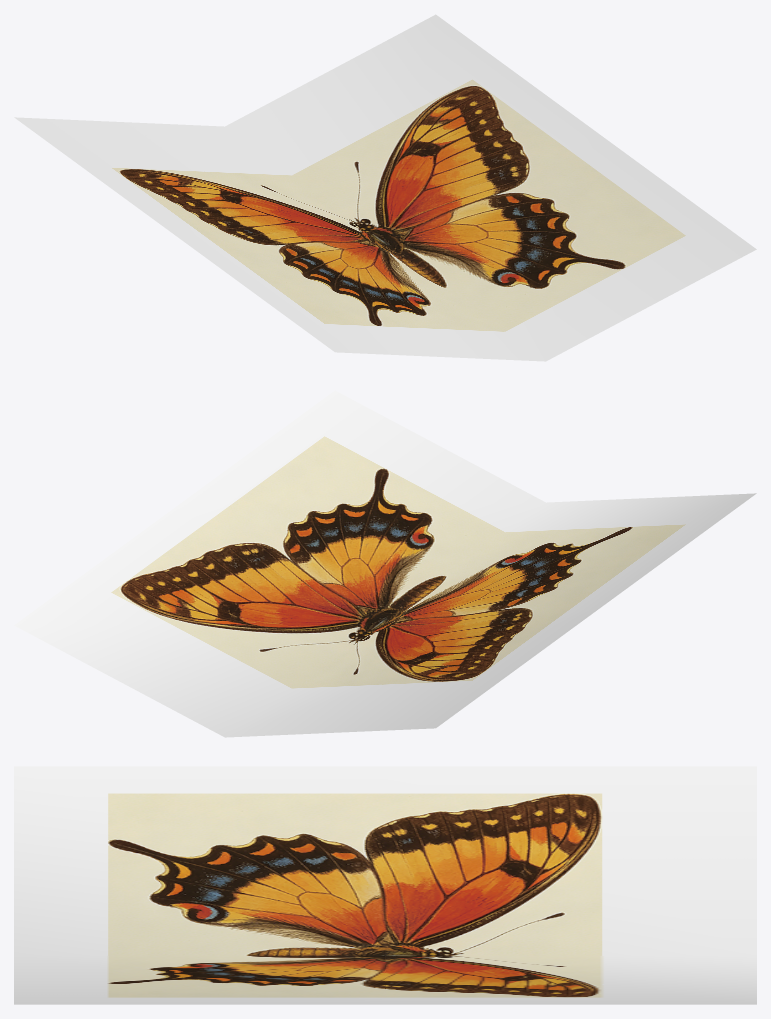
The model's file is bird0.glb.
3 views of the same model, one above another, from view 1: azimuth 30°, elevation 25°; view 2: azimuth 150°, elevation 25°; view 3: azimuth 270°, elevation 25° (orthographic). The views are drawn at different scales.
Parts seen in each view (by area): view 1: 平面.1; view 2: 平面.1; view 3: 平面.1.
Part boxes in pixels (x1=…): 平面.1: x1=14, y1=14, x2=756, y2=361; 平面.1: x1=14, y1=390, x2=756, y2=737; 平面.1: x1=14, y1=766, x2=756, y2=1004.
Bounding box in the file's own units: 0.0759 × 0.0104 × 0.1.
1 material, 1 textured.
